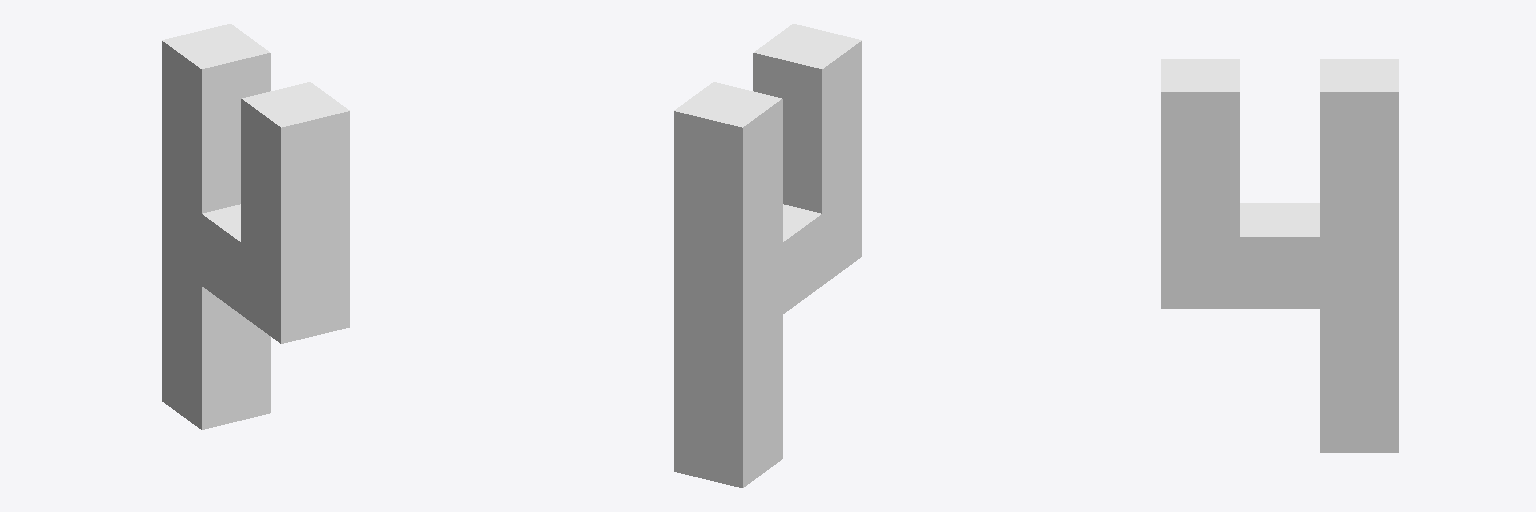
The model's file is nowruz-display-6.obj.
The picture shows the model from 3 angles: view 1: azimuth 30°, elevation 25°; view 2: azimuth 150°, elevation 25°; view 3: azimuth 270°, elevation 25°; orthographic projection.
Visible parts, largest first — view 1: object 1; view 2: object 1; view 3: object 1.
Part boxes in pixels (x1,y1,x2,y2): object 1: (162,24,349,429); object 1: (674,24,861,487); object 1: (1161,59,1398,452).
Size of the model in its own units: 0.1 by 0.5 by 0.3.